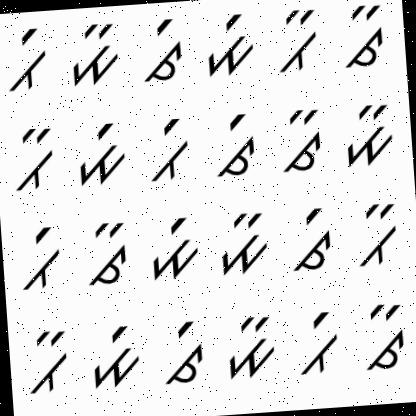ban: (21, 324, 77, 396), (269, 7, 324, 75), (6, 124, 56, 193), (356, 202, 404, 270)
bang: (12, 220, 65, 294), (293, 306, 345, 381), (0, 27, 52, 96), (146, 115, 194, 182)
can: (358, 300, 411, 374), (338, 1, 390, 72), (277, 106, 328, 175), (83, 218, 131, 290)
cang: (285, 206, 339, 280), (159, 314, 210, 387), (209, 110, 260, 180), (139, 15, 187, 86)
man: (213, 208, 274, 280), (339, 98, 399, 171), (221, 313, 281, 380), (64, 22, 124, 88)
mang: (198, 11, 262, 79), (86, 320, 145, 392), (70, 119, 129, 190), (146, 211, 202, 282)
